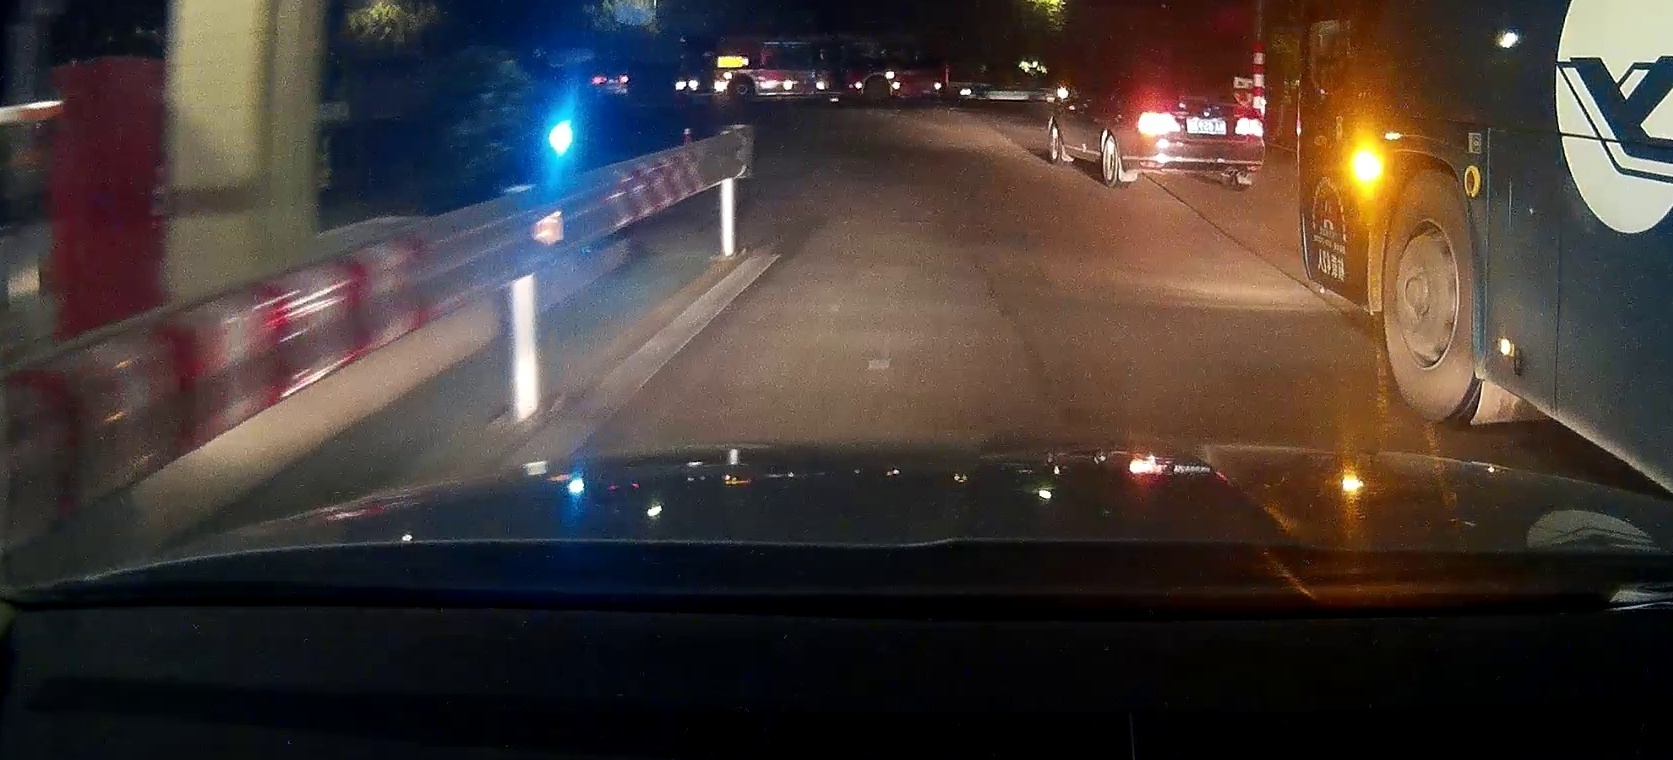L_light: (1137, 111, 1180, 136)
R_light: (1233, 118, 1264, 139)
T_light: (1188, 83, 1205, 88)
night-left: (1135, 73, 1264, 191)
